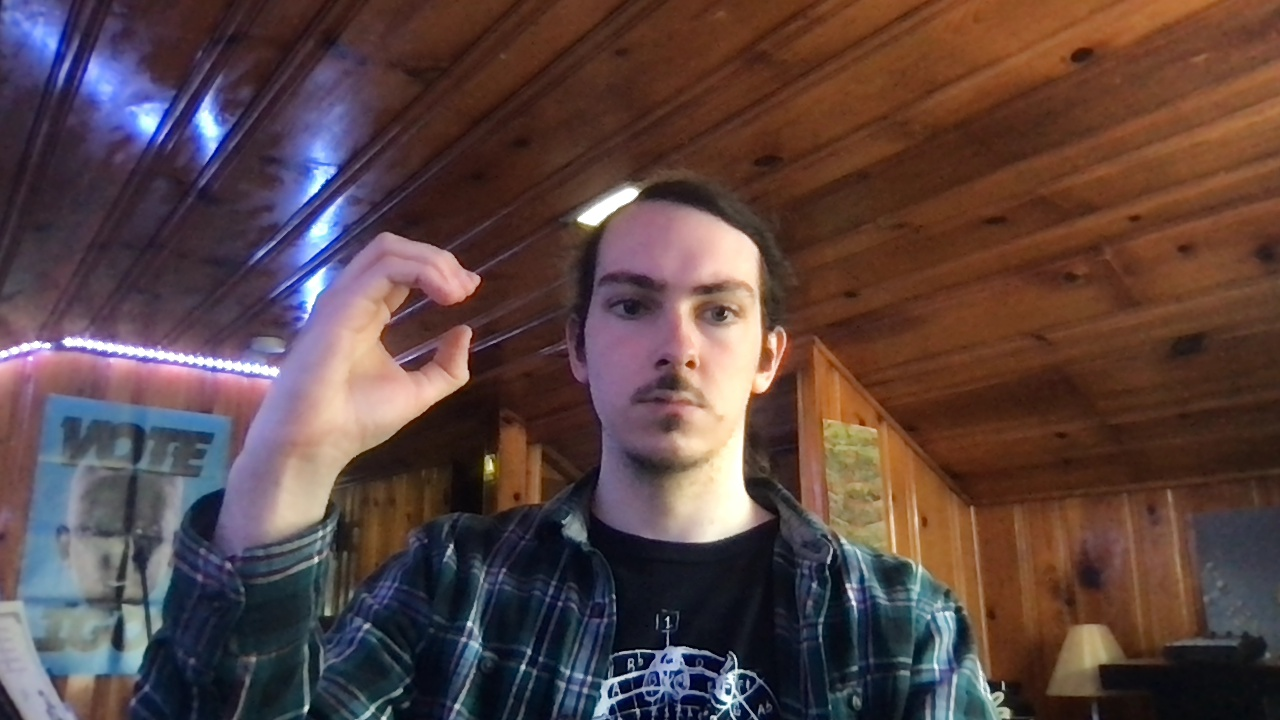c: (243, 226, 485, 461)
